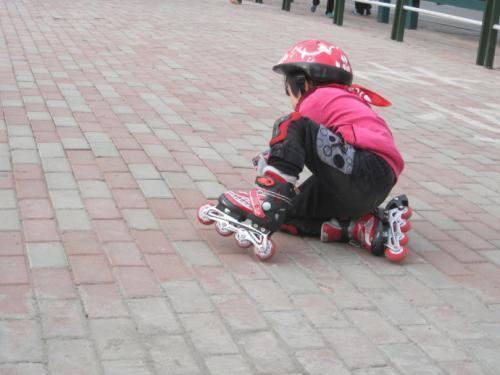Fall-Detected: (204, 28, 416, 262)
